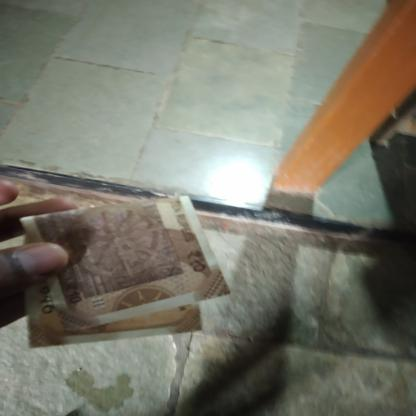New10Back: (40, 192, 199, 308)
